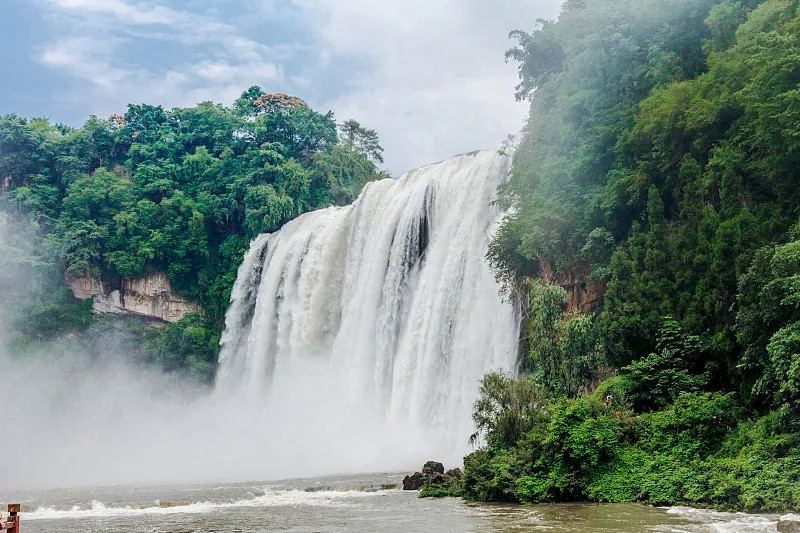Huangguoshu: (216, 149, 522, 478)
